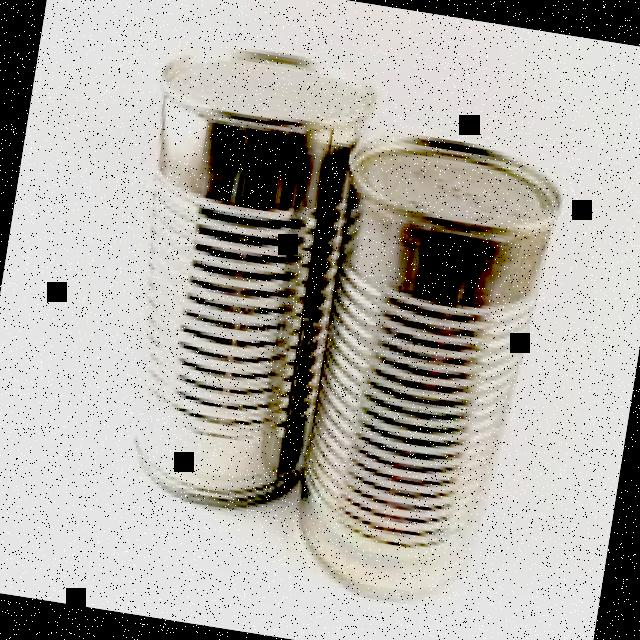can: (284, 125, 572, 618), (94, 31, 380, 518)
